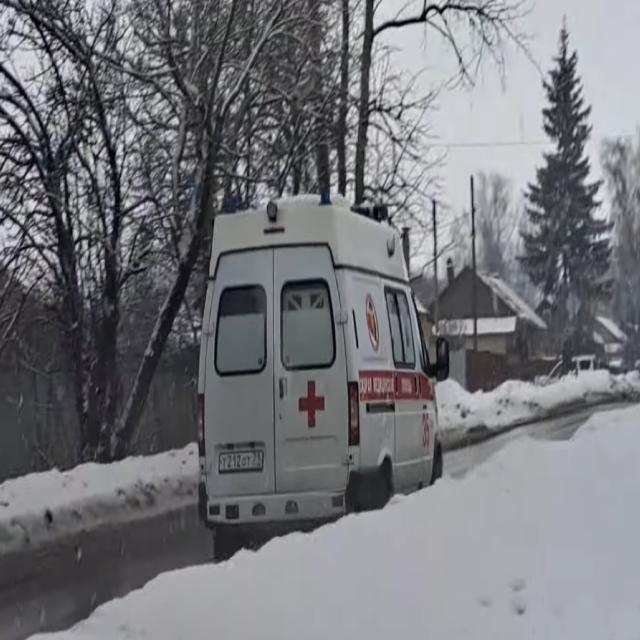ambulance: (200, 202, 445, 542)
